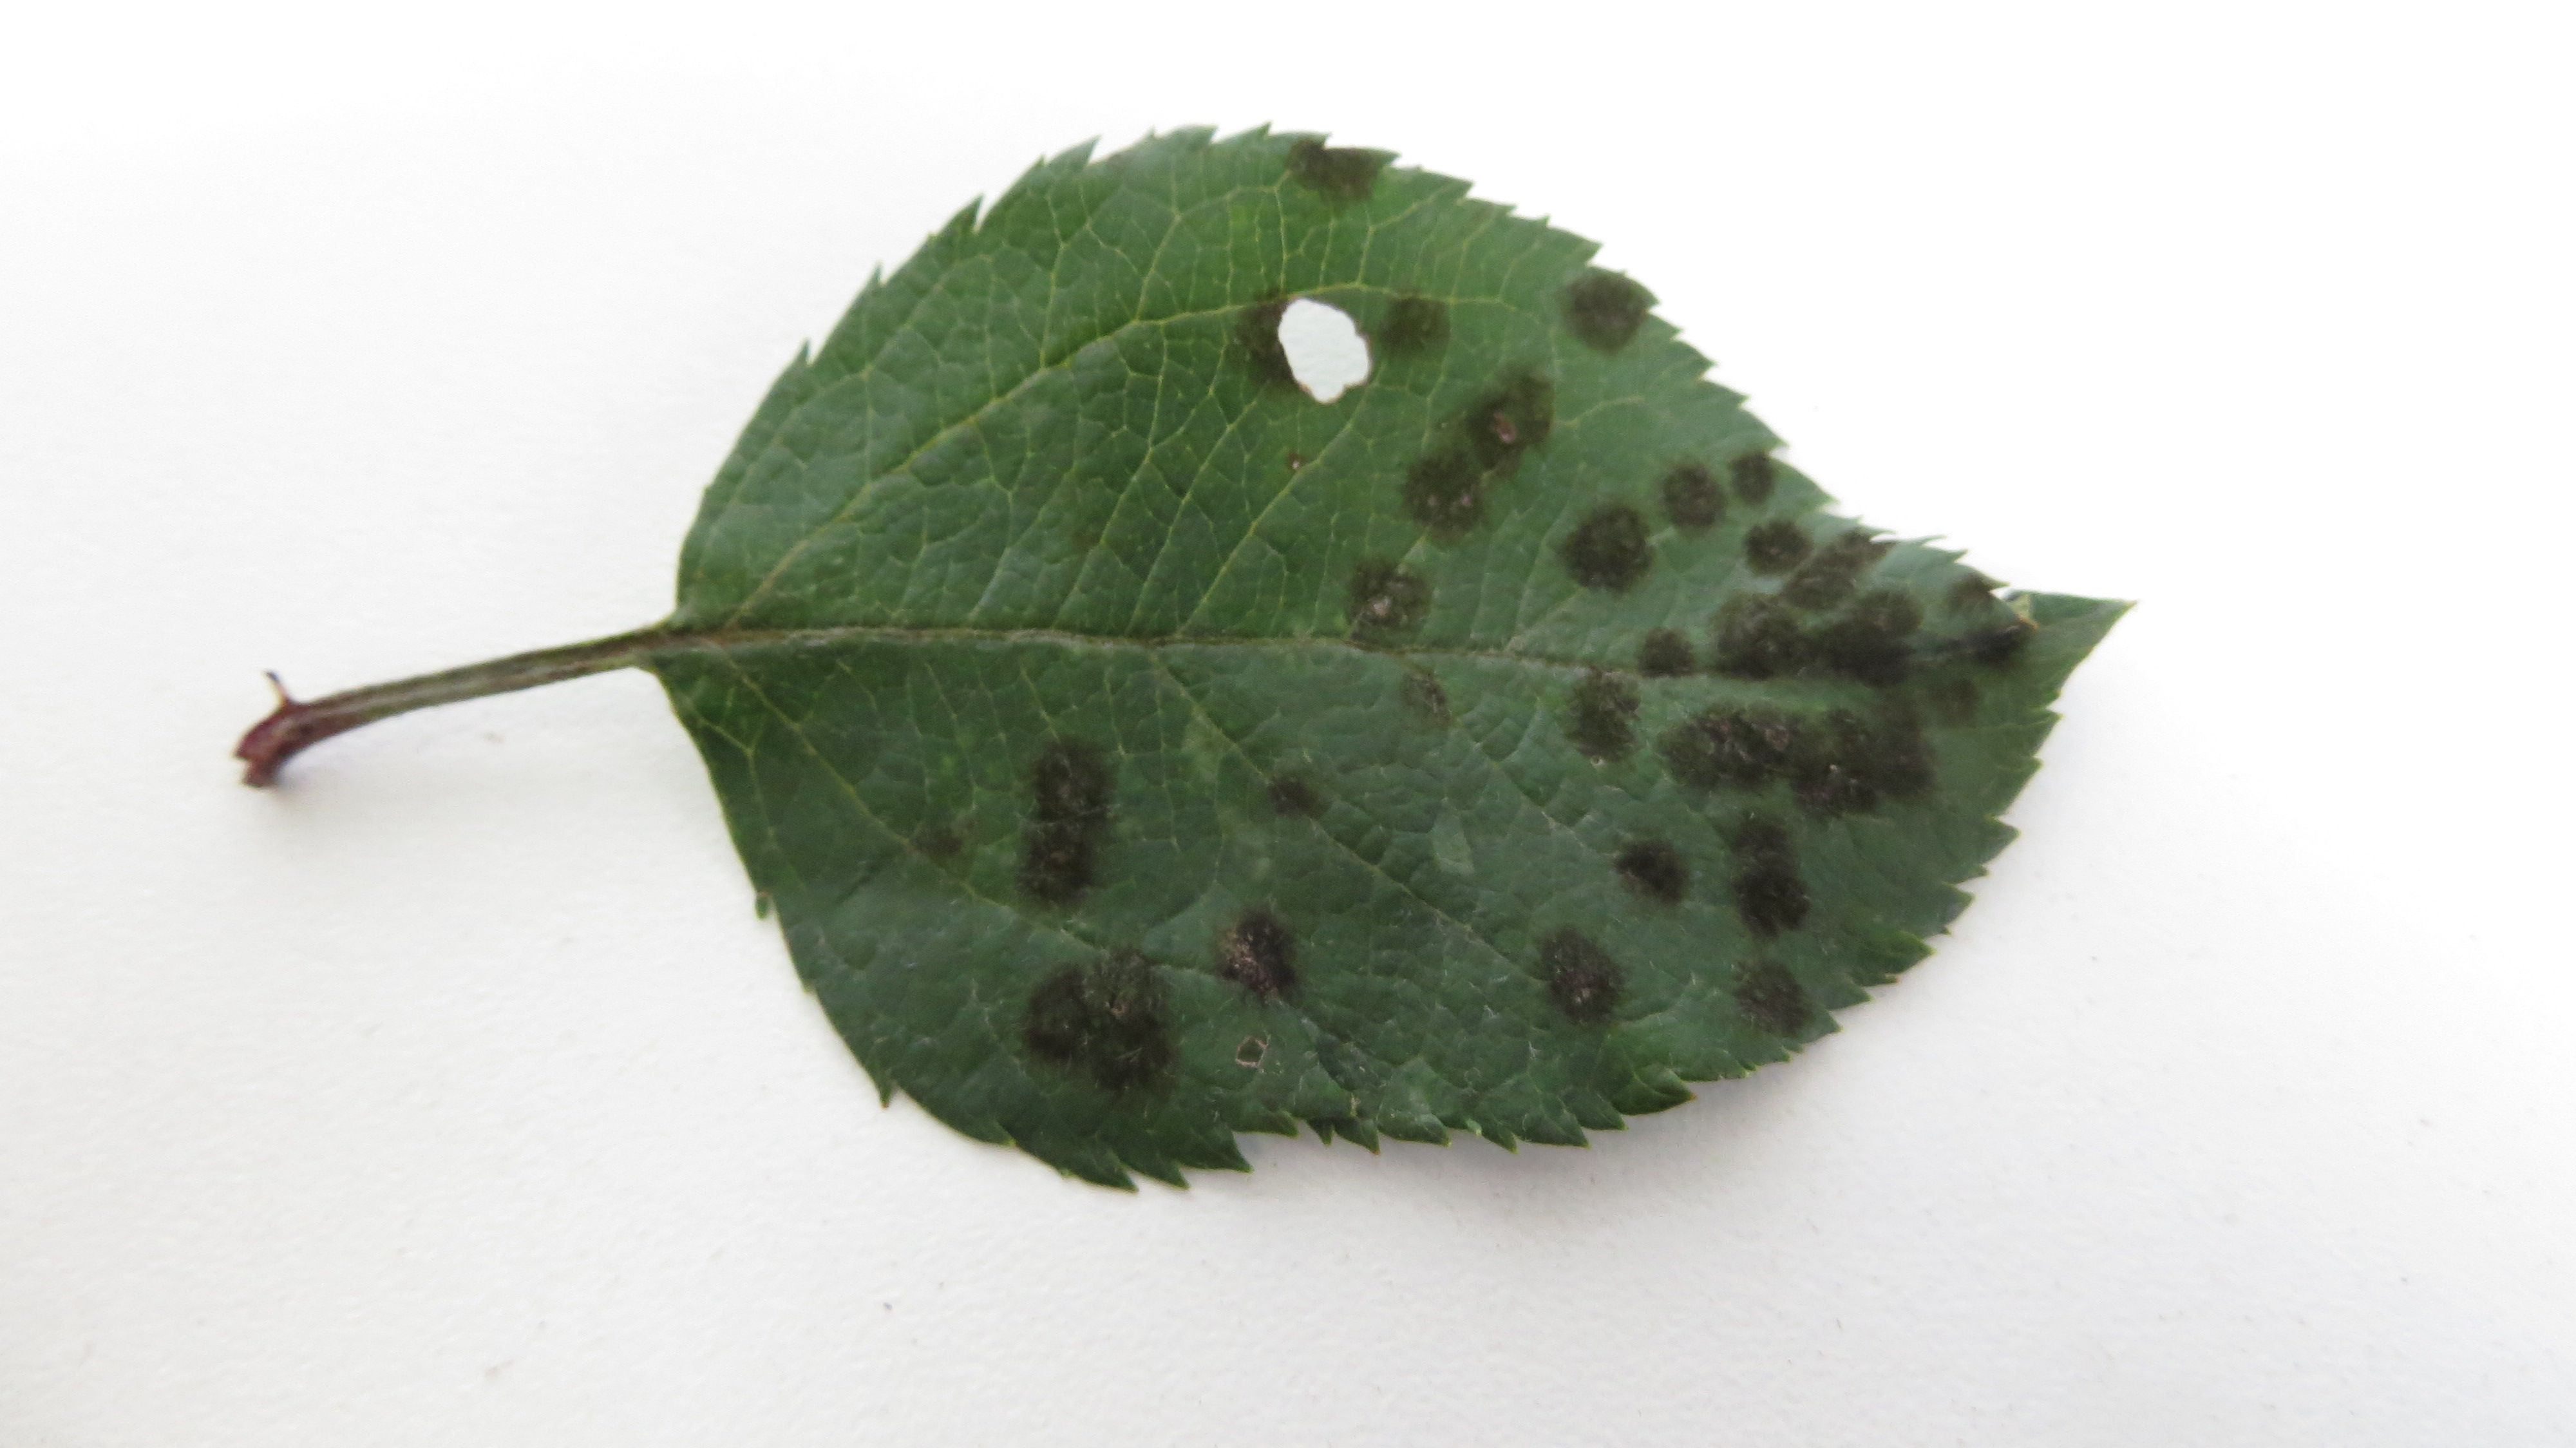sarna: (1651, 689, 1937, 816), (1014, 935, 1189, 1101), (1713, 800, 1824, 951), (1021, 733, 1113, 913), (1707, 575, 1847, 692), (1537, 487, 1667, 602), (1916, 611, 2029, 728), (1560, 650, 1652, 784), (1389, 437, 1502, 542), (1831, 572, 1925, 694), (1364, 267, 1461, 384), (1546, 258, 1645, 372), (1212, 896, 1304, 1016), (1269, 126, 1407, 205), (1534, 915, 1624, 1034), (1329, 549, 1435, 644), (1723, 949, 1819, 1048), (1467, 366, 1560, 466), (1231, 276, 1293, 411), (1796, 515, 1882, 605), (1615, 827, 1698, 917), (1384, 646, 1460, 742), (878, 797, 973, 869), (1246, 754, 1336, 830), (1658, 444, 1732, 536), (1721, 428, 1785, 522), (1633, 611, 1709, 687), (1732, 510, 1813, 581), (1927, 552, 2003, 625)
